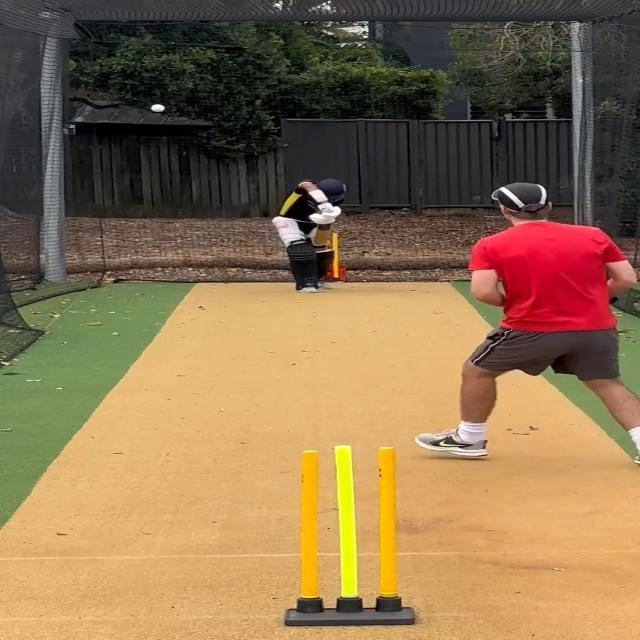ball: (150, 104, 166, 112)
stump: (284, 444, 414, 626)
